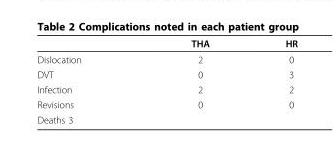table: (36, 37, 296, 124)
table column: (135, 37, 246, 124), (36, 37, 135, 124), (246, 37, 296, 124)
table column header: (36, 37, 296, 51)
table projected row header: (36, 111, 296, 124)
table row: (36, 51, 296, 66), (36, 66, 296, 81), (36, 81, 296, 96), (36, 96, 296, 111), (36, 37, 296, 51), (36, 111, 296, 124)
